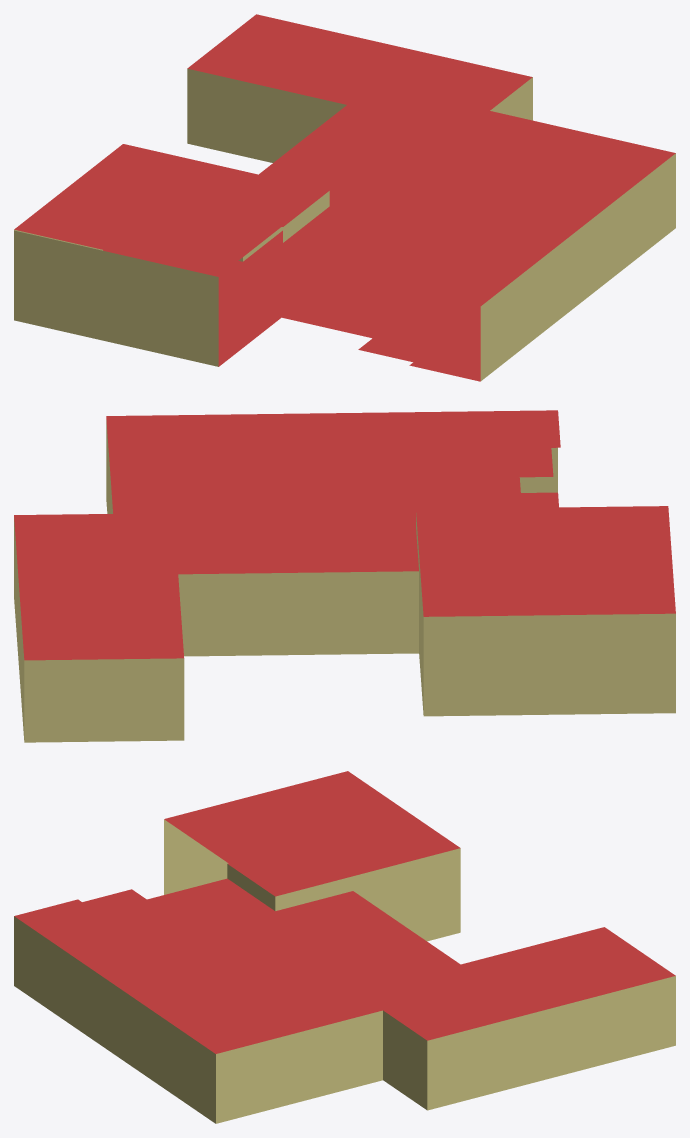
3 views of the same model, one above another, from view 1: azimuth 30°, elevation 25°; view 2: azimuth 150°, elevation 25°; view 3: azimuth 270°, elevation 25° (orthographic). The views are drawn at different scales.
Size of the model in its own units: 67.43 by 70.28 by 9.9.
